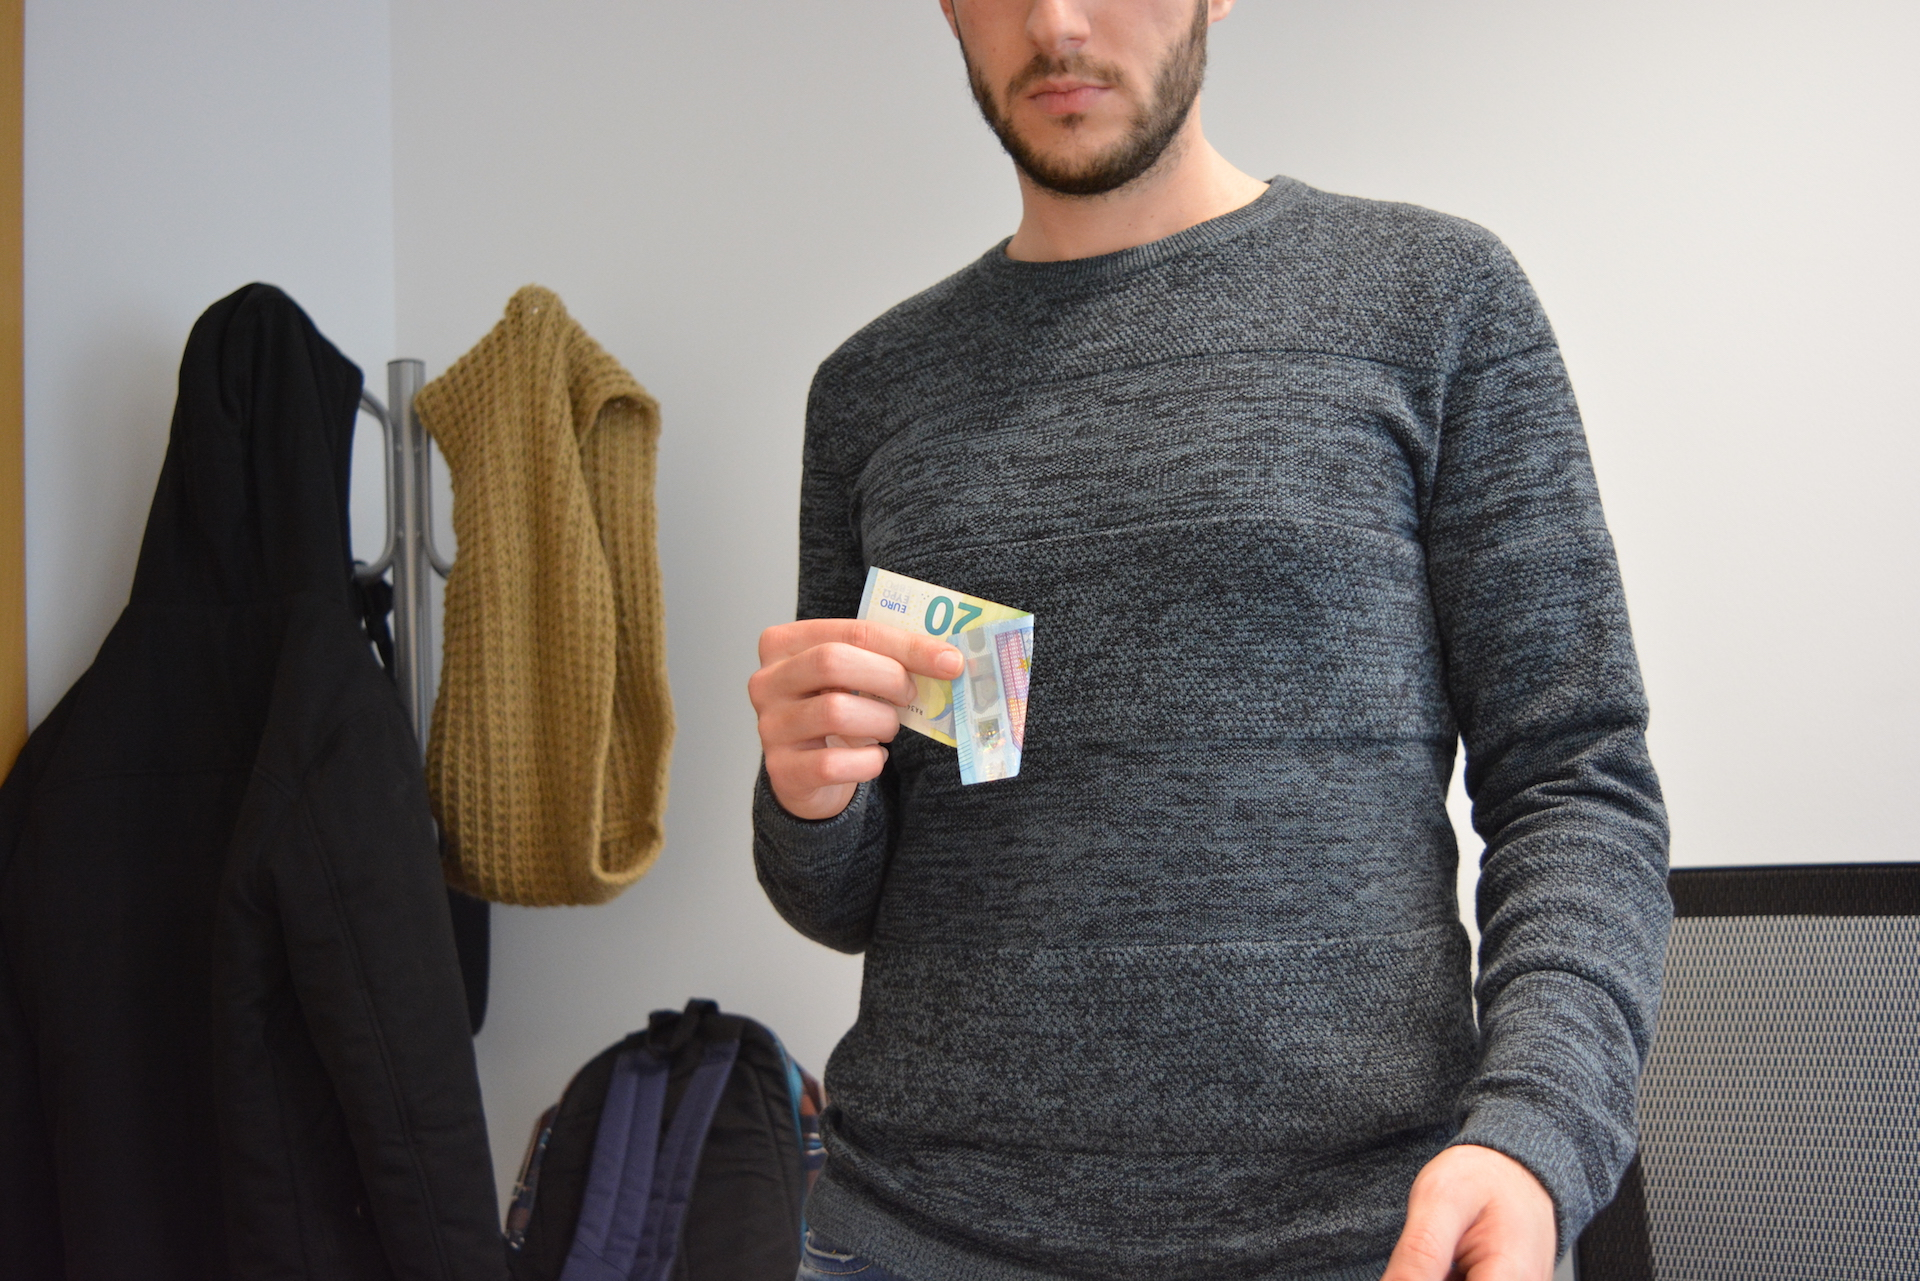billete: (855, 563, 1036, 786)
